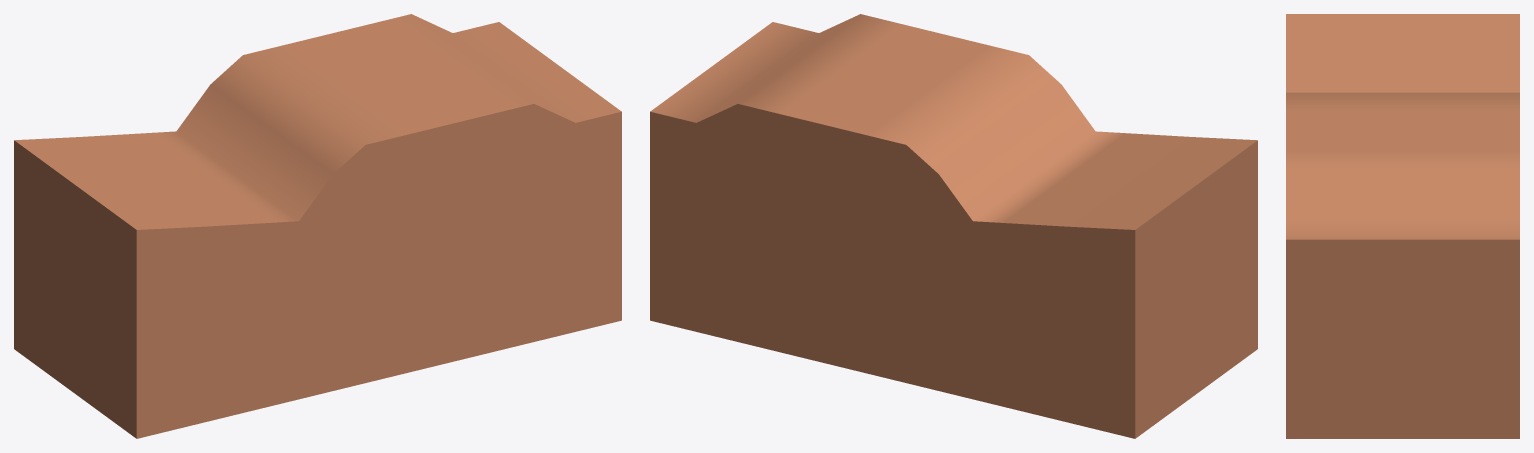
3 views of the same model, side by side, from view 1: azimuth 30°, elevation 25°; view 2: azimuth 150°, elevation 25°; view 3: azimuth 270°, elevation 25° (orthographic). The views are drawn at different scales.
Visible parts, largest first — view 1: pCube8; view 2: pCube8; view 3: pCube8.
Part boxes in pixels (x1=…): pCube8: x1=14, y1=14, x2=621, y2=438; pCube8: x1=650, y1=14, x2=1257, y2=438; pCube8: x1=1286, y1=14, x2=1519, y2=438.
Bounding box in the file's own units: 3.75 × 1.76 × 1.64.
